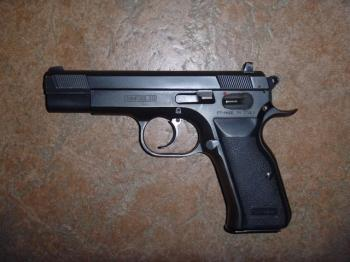Arma Real: (39, 64, 296, 233)
